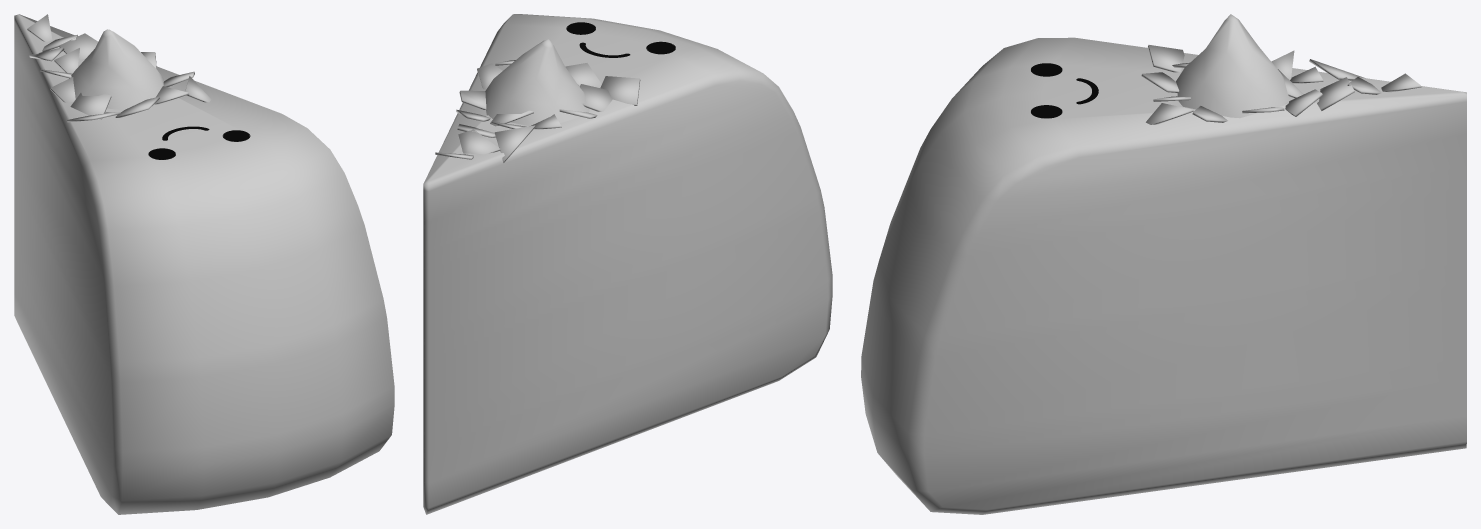
Rendered from cake_piece_smile.fbx.
The picture shows the model from 3 angles, left to right: view 1: azimuth 30°, elevation 25°; view 2: azimuth 150°, elevation 25°; view 3: azimuth 270°, elevation 25°; orthographic projection. The views are drawn at different scales.
Parts seen in each view (by area): view 1: cake_piece_smile; view 2: cake_piece_smile; view 3: cake_piece_smile.
Boxes of the visible parts, left/top/right/bottom form: cake_piece_smile: left=14, top=14, right=394, bottom=514; cake_piece_smile: left=423, top=14, right=832, bottom=514; cake_piece_smile: left=861, top=14, right=1466, bottom=514.
Size of the model in its own units: 54.37 by 69.28 by 88.96.
2 materials, 1 textured.
